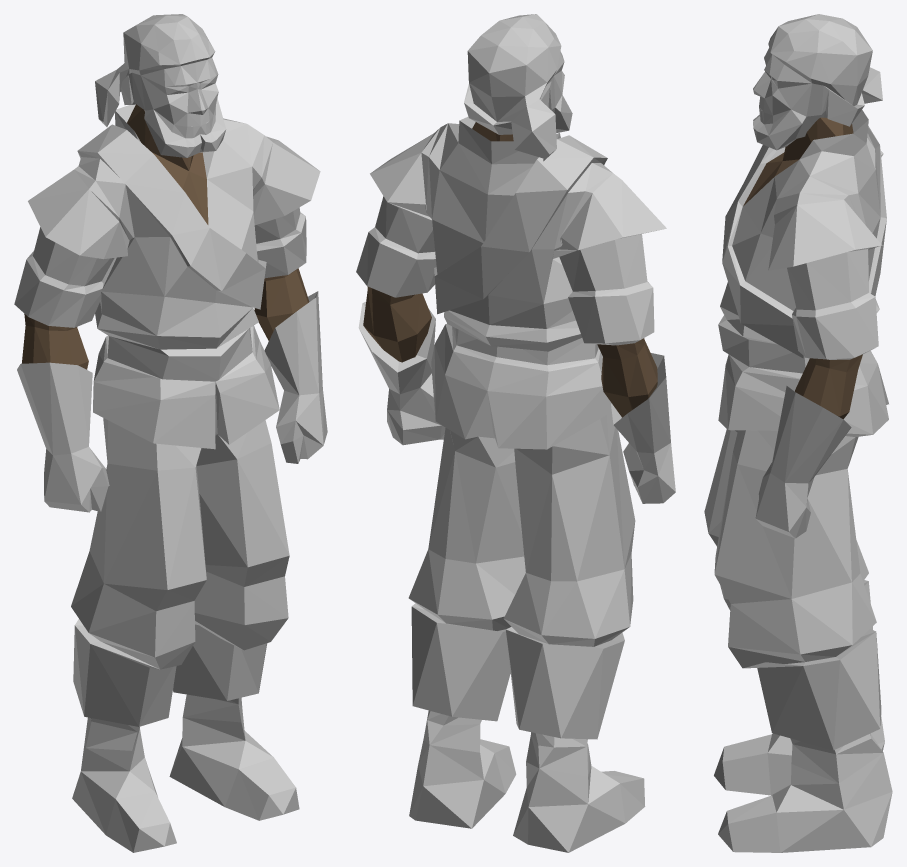
The model's file is ARMOR_PIR_M_ADDON.OBJ.
3 renders of one model, left to right at view 1: azimuth 30°, elevation 25°; view 2: azimuth 150°, elevation 25°; view 3: azimuth 270°, elevation 25°, orthographic.
Parts seen in each view (by area): view 1: ARMOR_PIR_M_ADDON; view 2: ARMOR_PIR_M_ADDON; view 3: ARMOR_PIR_M_ADDON.
Part boxes in pixels (<box>): ARMOR_PIR_M_ADDON: <box>14,14,327,852</box>; ARMOR_PIR_M_ADDON: <box>356,14,675,852</box>; ARMOR_PIR_M_ADDON: <box>704,14,892,852</box>.
Bounding box in the file's own units: 0.7336 × 1.84 × 0.3968.
